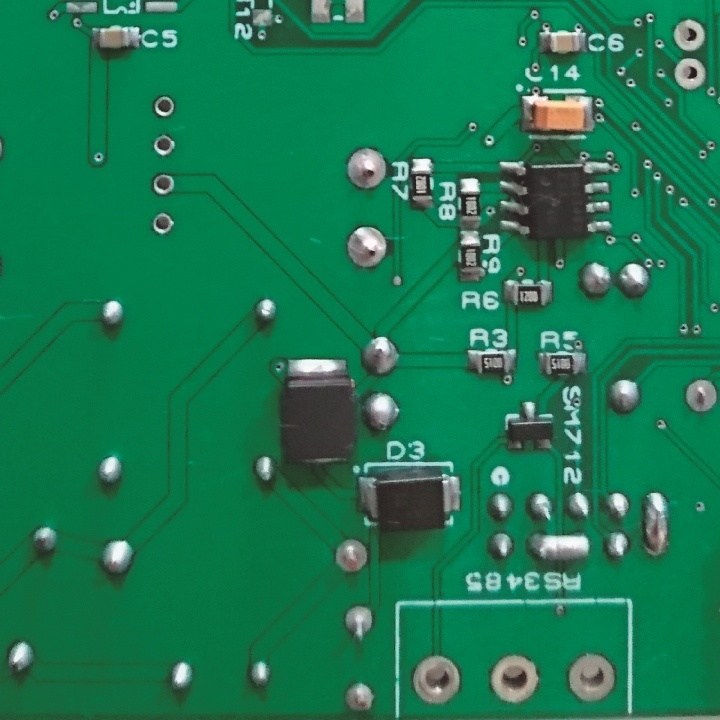F: (565, 651, 618, 709), (489, 652, 544, 704), (410, 653, 462, 704), (340, 145, 390, 192), (345, 223, 393, 270), (681, 375, 720, 418), (332, 536, 370, 578), (342, 600, 378, 642), (672, 15, 707, 53), (673, 55, 707, 94), (344, 678, 373, 715), (150, 169, 176, 197), (150, 209, 176, 237), (151, 92, 177, 118), (152, 132, 176, 157)
P: (524, 529, 592, 565), (641, 486, 670, 560)
